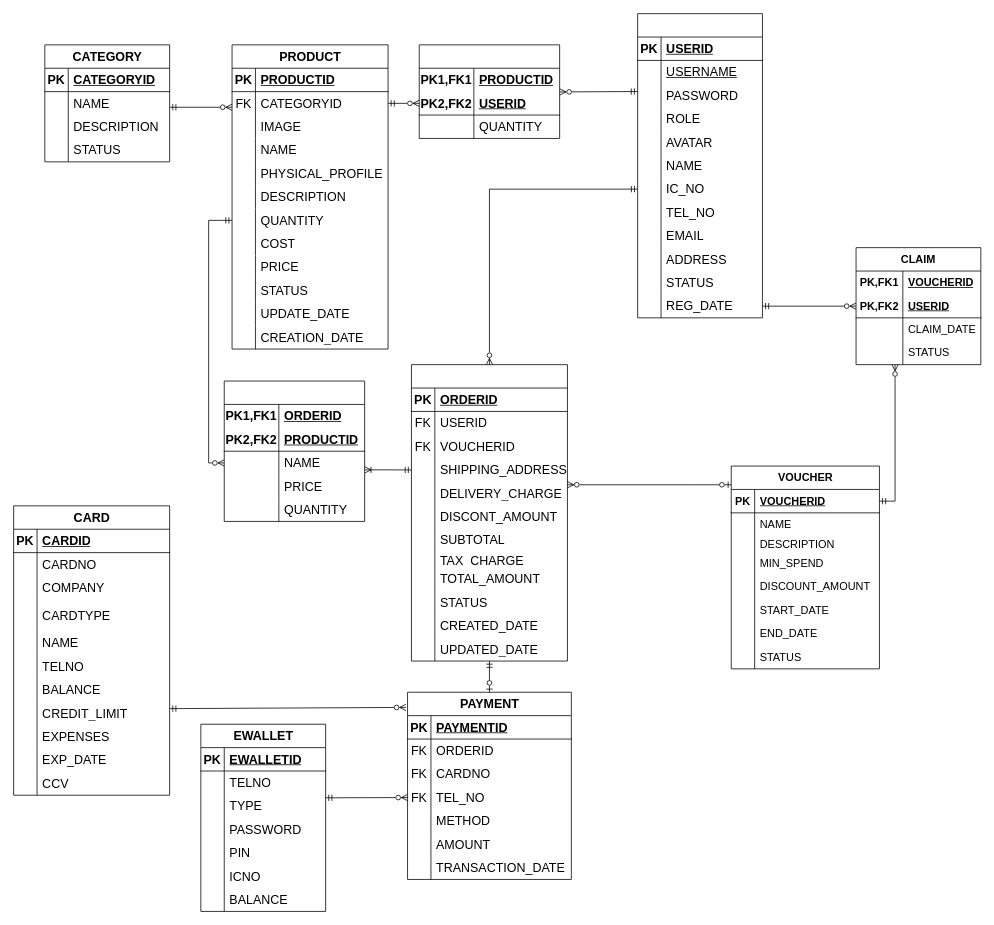
Image size: 994x925. Some labels were removed from this diagram. The box of each missing label's shape, as (x1, y1, x2, y2) in pixels:
CART: (418, 44, 560, 138)
ORDERDETAIL: (223, 380, 365, 521)
ORDERS: (411, 364, 567, 661)
USERS: (637, 13, 762, 318)
